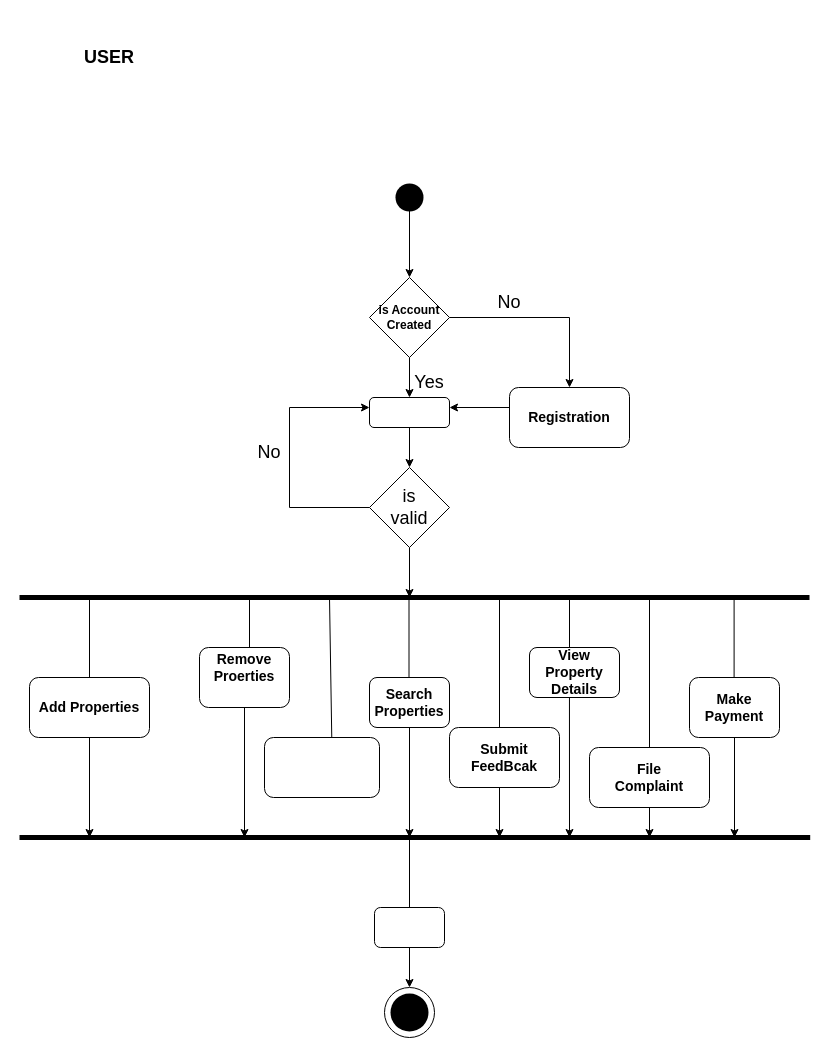
Image size: 831x1055. Some labels were removed from this diagram. The box of each missing label's shape, as (x1, y1, x2, y2) in pixels:
Login: (368, 396, 450, 428)
Logout: (374, 906, 444, 948)
Submit Inquiry: (264, 736, 380, 798)
